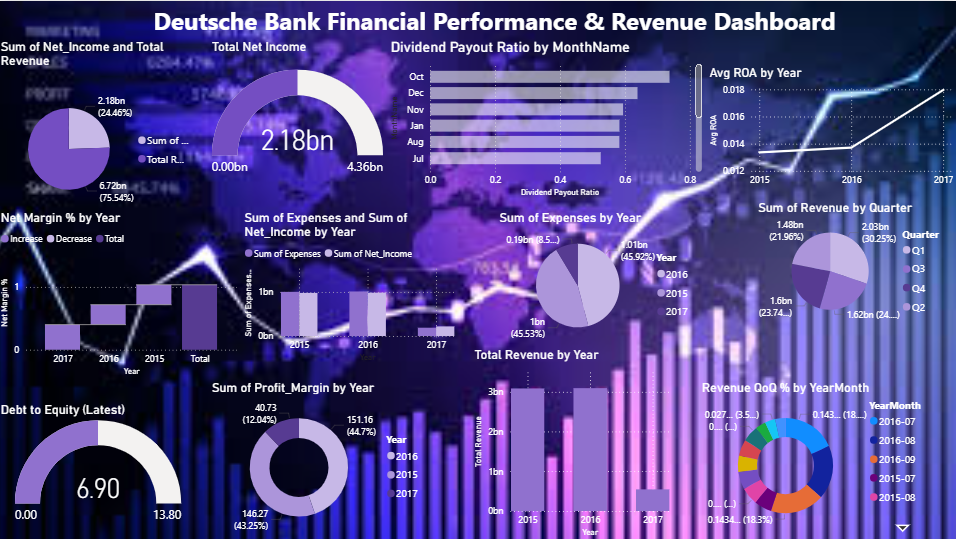

The dashboard page shown, as its layout file describes it:
{"tool":"powerbi","page":{"name":"Page 1","canvas":[1280,720],"ordinal":0},"visuals":[{"type":"donutChart","fields":{"Y":["DateTable.Revenue QoQ %"],"Category":["DateTable.YearMonth"]},"box":[935,505,320,210],"z":0},{"type":"pieChart","fields":{"Category":["deutsche_bank_financial_performance.Year"],"Y":["Sum(deutsche_bank_financial_performance.Expenses)"]},"box":[665,278.3,270,183.3],"z":1000},{"type":"pieChart","fields":{"Y":["Sum(deutsche_bank_financial_performance.Net_Income)","DateTable.Total Revenue"]},"box":[0,50,270,256.7],"z":2000},{"type":"pieChart","fields":{"Y":["Sum(deutsche_bank_financial_performance.Revenue)"],"Category":["DateTable.Quarter"]},"box":[1010,265,270,171.7],"z":3000},{"type":"waterfallChart","fields":{"Category":["deutsche_bank_financial_performance.Year"],"Y":["DateTable.Net Margin %"]},"box":[0,278.3,325,226.7],"z":4000},{"type":"gauge","fields":{"Y":["DateTable.Debt to Equity (Latest)"]},"box":[0,535,270,171.7],"z":5000},{"type":"barChart","fields":{"Y":["DateTable.Dividend Payout Ratio"],"Category":["DateTable.MonthName"]},"box":[520,50,425,216.7],"z":6000},{"type":"clusteredColumnChart","fields":{"Category":["deutsche_bank_financial_performance.Year"],"Y":["DateTable.Total Revenue"]},"box":[631.7,461.7,270,258.3],"z":7000},{"type":"lineChart","fields":{"Category":["deutsche_bank_financial_performance.Year"],"Y":["DateTable.Avg ROA"]},"box":[945,85,335,171.7],"z":8000},{"type":"gauge","fields":{"Y":["DateTable.Total Net Income"]},"box":[281.7,50,238.3,210],"z":9000},{"type":"donutChart","fields":{"Y":["Sum(deutsche_bank_financial_performance.Profit_Margin)"],"Category":["deutsche_bank_financial_performance.Year"]},"box":[281.7,505,293.3,215],"z":10000},{"type":"clusteredColumnChart","fields":{"Category":["deutsche_bank_financial_performance.Year"],"Y":["Sum(deutsche_bank_financial_performance.Expenses)","Sum(deutsche_bank_financial_performance.Net_Income)"]},"box":[325,278.3,290,208.3],"z":11000},{"type":"textbox","box":[163.3,0,1043.3,70],"z":11001}]}

Visuals, with their boxes in screenshot pixels (x1, y1, x2, y2), scaled from the page's 1280x720 canvas onto the 956x539 screenshot:
donutChart - DateTable.Revenue QoQ % x DateTable.YearMonth: [x1=698, y1=378, x2=937, y2=535]
pieChart - deutsche_bank_financial_performance.Year x Sum(deutsche_bank_financial_performance.Expenses): [x1=497, y1=208, x2=698, y2=346]
pieChart - Sum(deutsche_bank_financial_performance.Net_Income) x DateTable.Total Revenue: [x1=0, y1=37, x2=202, y2=230]
pieChart - Sum(deutsche_bank_financial_performance.Revenue) x DateTable.Quarter: [x1=754, y1=198, x2=955, y2=327]
waterfallChart - deutsche_bank_financial_performance.Year x DateTable.Net Margin %: [x1=0, y1=208, x2=243, y2=378]
gauge - DateTable.Debt to Equity (Latest): [x1=0, y1=401, x2=202, y2=529]
barChart - DateTable.Dividend Payout Ratio x DateTable.MonthName: [x1=388, y1=37, x2=706, y2=200]
clusteredColumnChart - deutsche_bank_financial_performance.Year x DateTable.Total Revenue: [x1=472, y1=346, x2=673, y2=538]
lineChart - deutsche_bank_financial_performance.Year x DateTable.Avg ROA: [x1=706, y1=64, x2=955, y2=192]
gauge - DateTable.Total Net Income: [x1=210, y1=37, x2=388, y2=195]
donutChart - Sum(deutsche_bank_financial_performance.Profit_Margin) x deutsche_bank_financial_performance.Year: [x1=210, y1=378, x2=429, y2=538]
clusteredColumnChart - deutsche_bank_financial_performance.Year x Sum(deutsche_bank_financial_performance.Expenses): [x1=243, y1=208, x2=459, y2=364]
textbox: [x1=122, y1=0, x2=901, y2=52]
